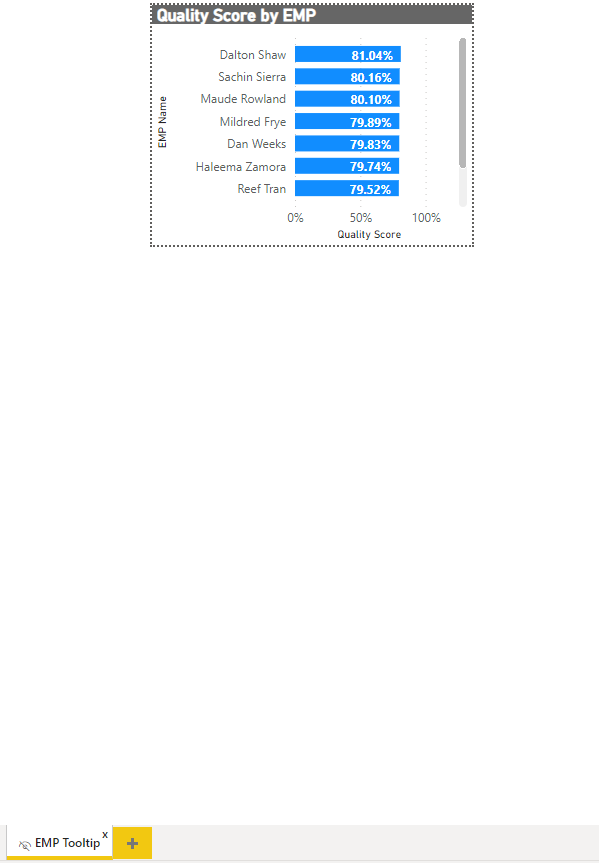

This screenshot's page, from the dashboard's own definition file:
{"tool":"powerbi","page":{"name":"EMP Tooltip","canvas":[320,240],"ordinal":2},"visuals":[{"type":"clusteredBarChart","title":"Quality Score by EMP","fields":{"Y":["Quality Data.Quality Score"],"Category":["Emp Master.EMP Name"]},"box":[0,0,320,240],"z":0}]}

Visuals, with their boxes on the page's 320x240 design canvas (x1, y1, x2, y2). These are canvas units, not pixel positions in the 599x863 screenshot, which may show the page scaled, cropped or inside an application window:
"Quality Score by EMP" clusteredBarChart: region(0, 0, 320, 240)
